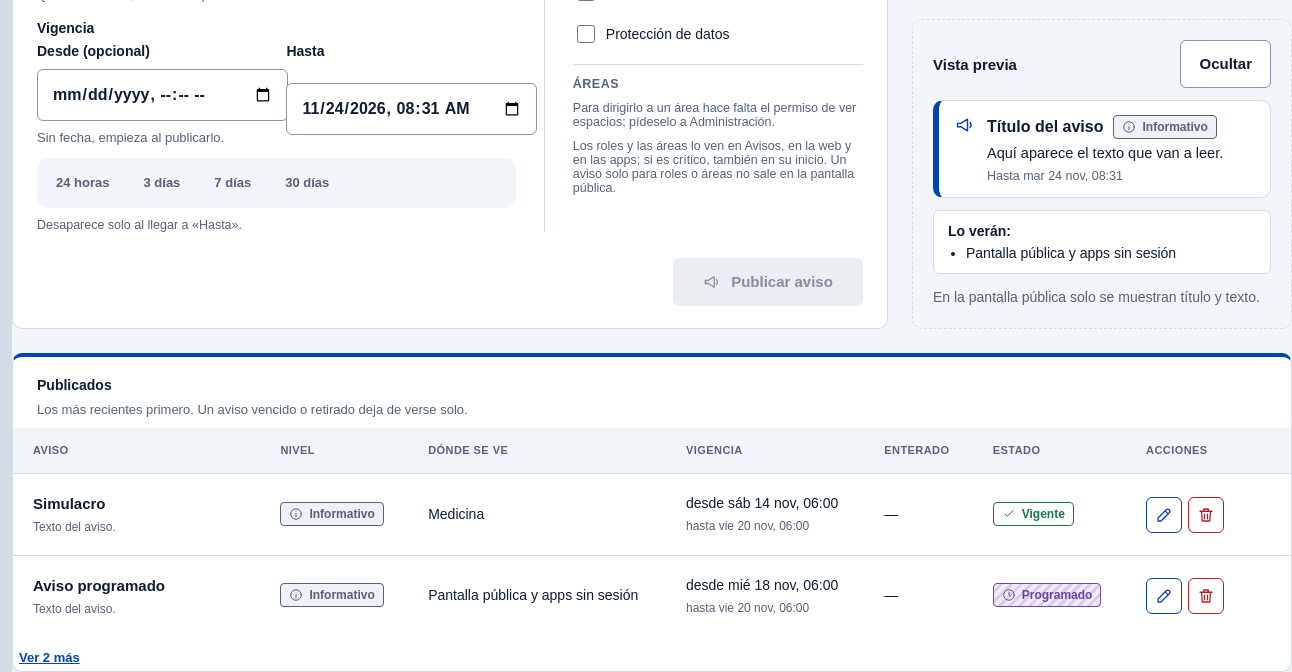
Test: MA-AVI-02 · editar y retirar avisos en la web › solo ofrece editar y retirar donde el servidor lo acepta
(page scrolled)
Expected: the button named "Editar" in the row of "Simulacro" is shown, [1146, 496, 1182, 532]
Expected: the button named "Retirar" in the row of "Simulacro" is shown, [1188, 496, 1224, 532]
Click the button "Ver 2 más".
click(49, 658)  # box [13, 644, 86, 671]
(page scrolled)
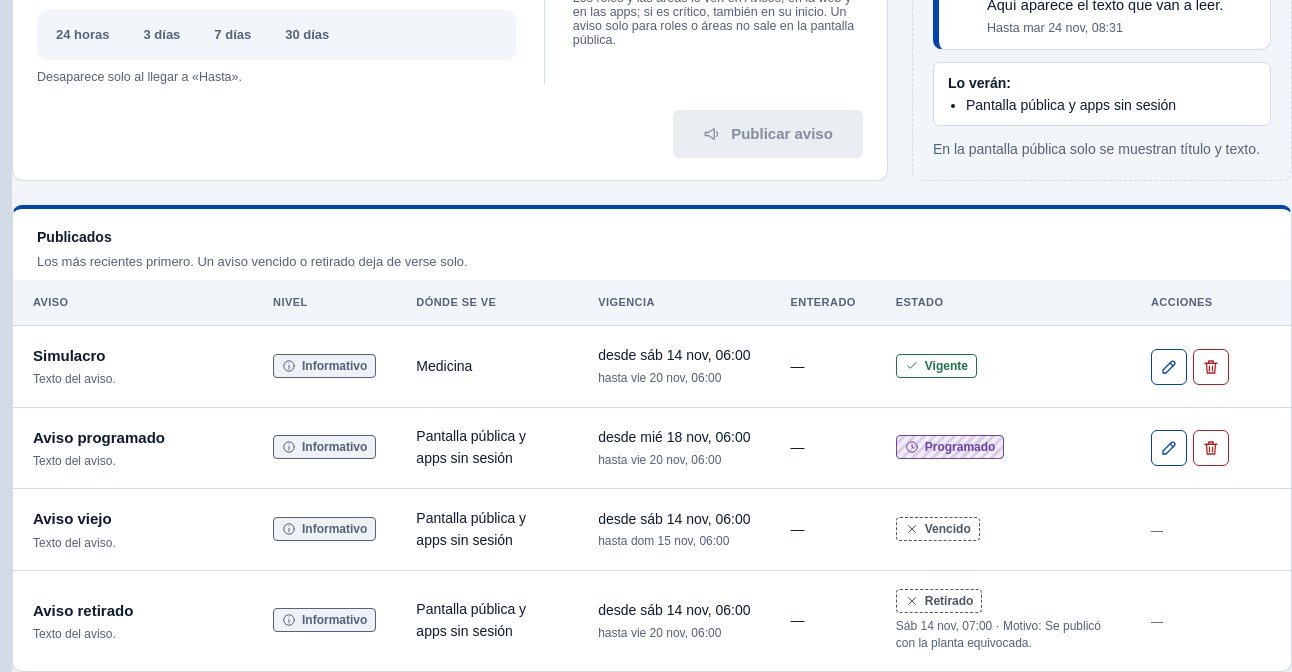
Expected: the text "Retirado" is shown, [925, 593, 974, 609]
Expected: the text "Se publicó con la planta equivocada" is shown, [896, 619, 1101, 650]
